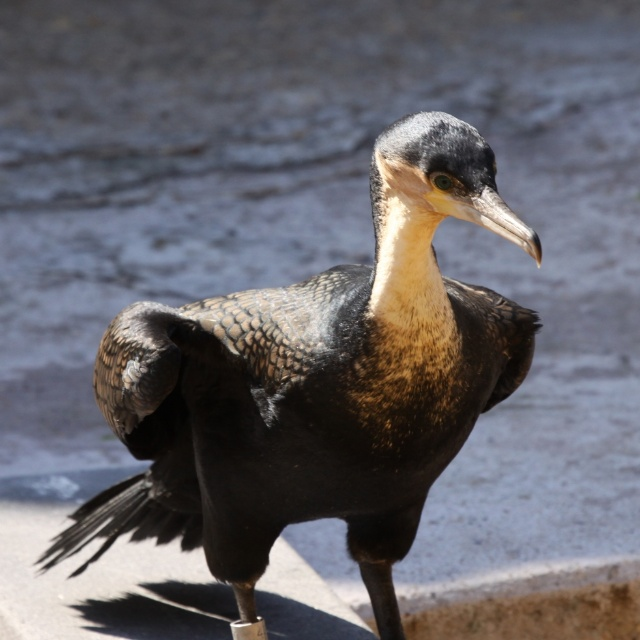Duck: (35, 109, 548, 640)
